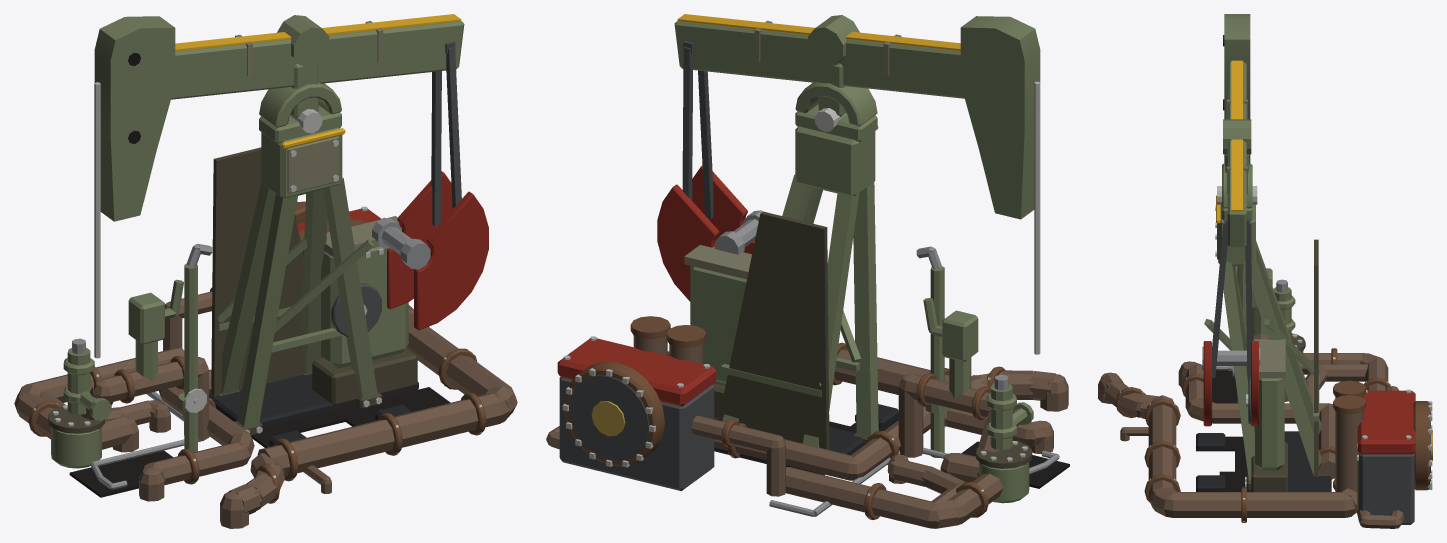
The model's file is pumpjack.glb.
3 renders of one model, left to right at view 1: azimuth 30°, elevation 25°; view 2: azimuth 150°, elevation 25°; view 3: azimuth 270°, elevation 25°, orthographic. The views are drawn at different scales.
Visible parts, largest first — view 1: anim_upright_still, anim_upright_rock_beam, body, anim_upright_spin_crank; view 2: anim_upright_still, body, anim_upright_rock_beam, anim_upright_spin_crank; view 3: body, anim_upright_still, anim_upright_rock_beam, anim_upright_spin_crank.
Boxes of the visible parts, x1=… form: anim_upright_still: x1=48, y1=41, x2=461, y2=497; anim_upright_rock_beam: x1=94, y1=14, x2=464, y2=221; body: x1=14, y1=201, x2=517, y2=528; anim_upright_spin_crank: x1=372, y1=171, x2=488, y2=330; anim_upright_still: x1=682, y1=41, x2=1069, y2=503; body: x1=546, y1=316, x2=1068, y2=528; anim_upright_rock_beam: x1=674, y1=14, x2=1040, y2=219; anim_upright_spin_crank: x1=657, y1=165, x2=762, y2=301; body: x1=1098, y1=348, x2=1432, y2=528; anim_upright_still: x1=1196, y1=163, x2=1331, y2=491; anim_upright_rock_beam: x1=1223, y1=14, x2=1251, y2=247; anim_upright_spin_crank: x1=1202, y1=341, x2=1260, y2=426.
Size of the model in its own units: 3.35 by 3.45 by 2.83.
